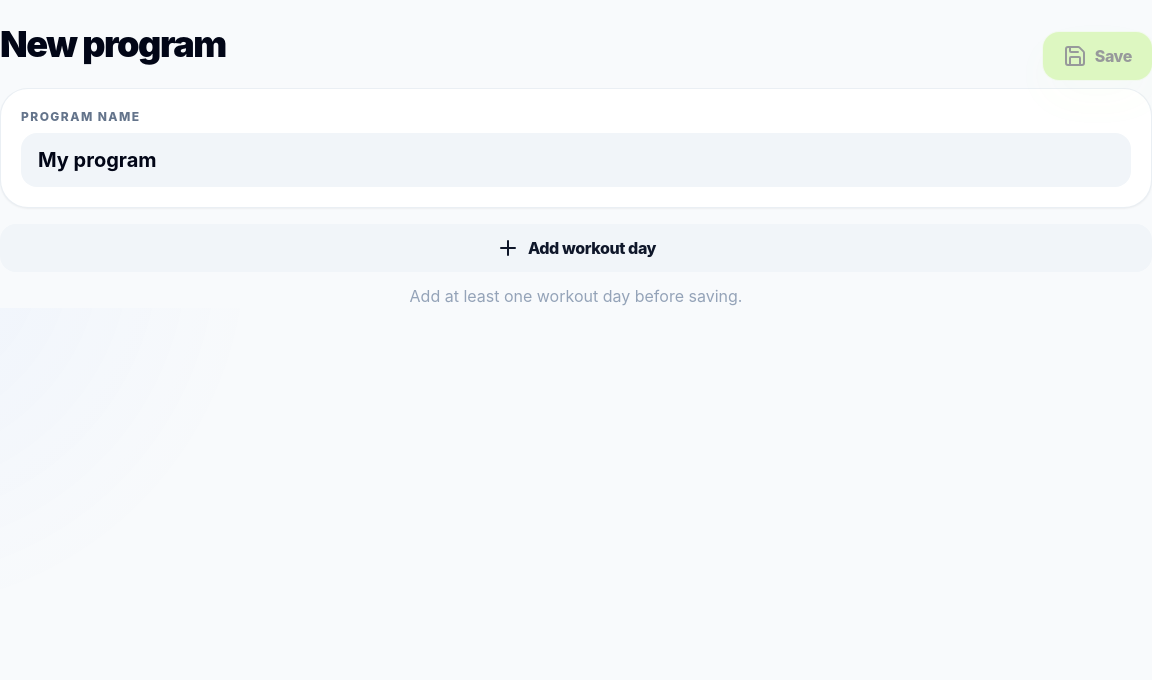
Scenario: program weekday selection › shows duration targets when a timed hold is added
Click the button "Add workout day" at (576, 248), box [0,224,1151,272]
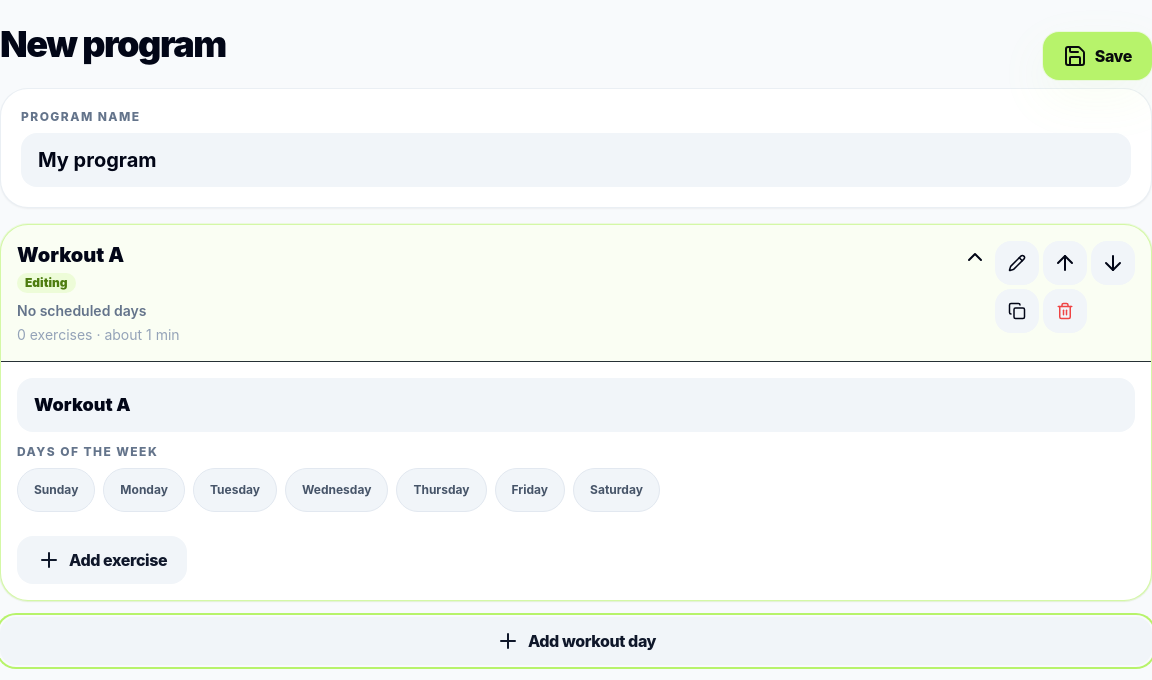
Click the button "Add exercise" at (102, 560), box [17,536,187,584]
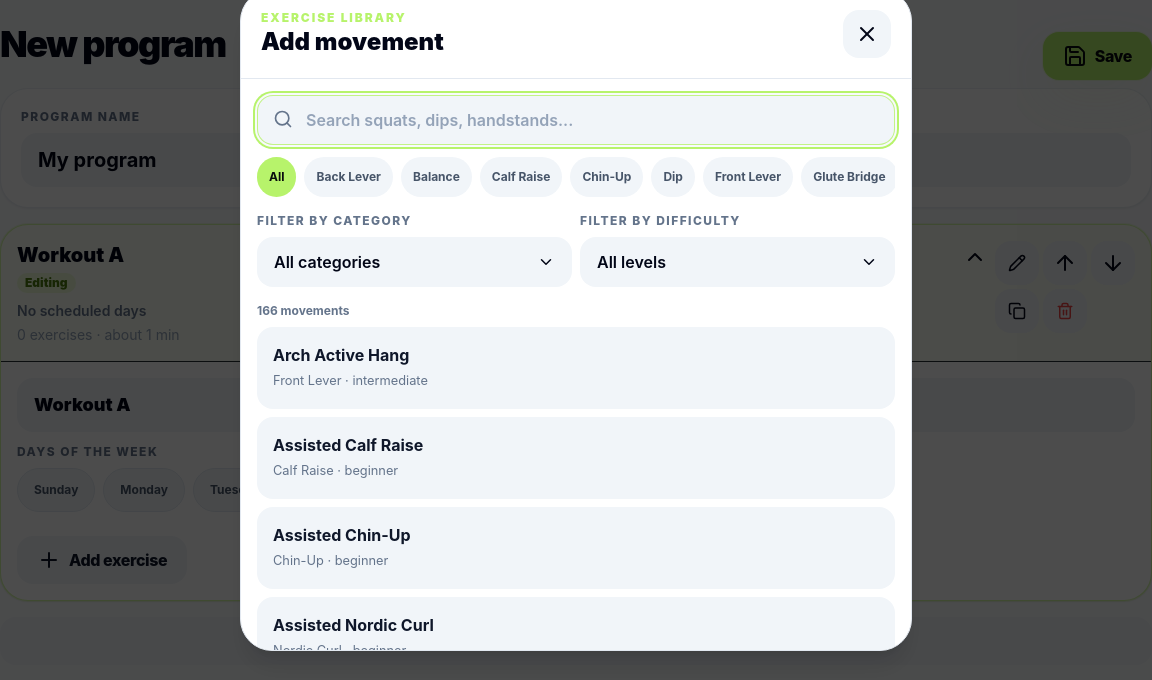
Type "Tuck L-Sit" into the field with placeholder "Search squats, dips, handstands..." at (576, 120), box [257,95,895,145]
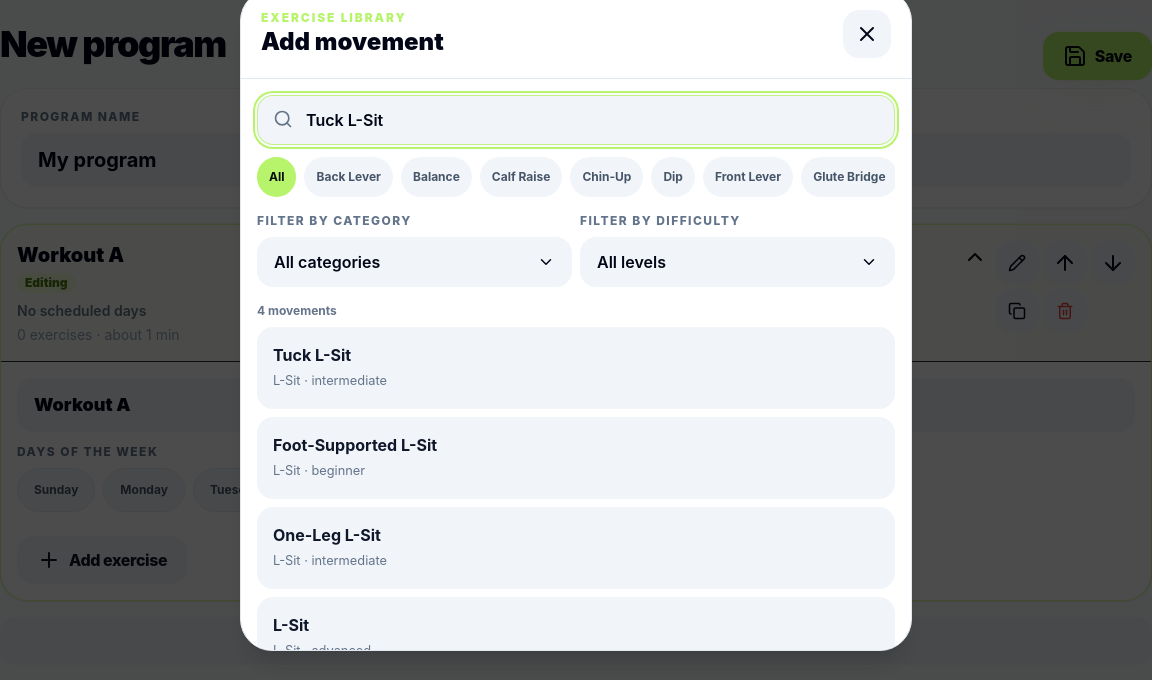
Click the button "Tuck L-Sit L-Sit · intermediate" at (312, 355), box [257,327,895,409]
(page scrolled)
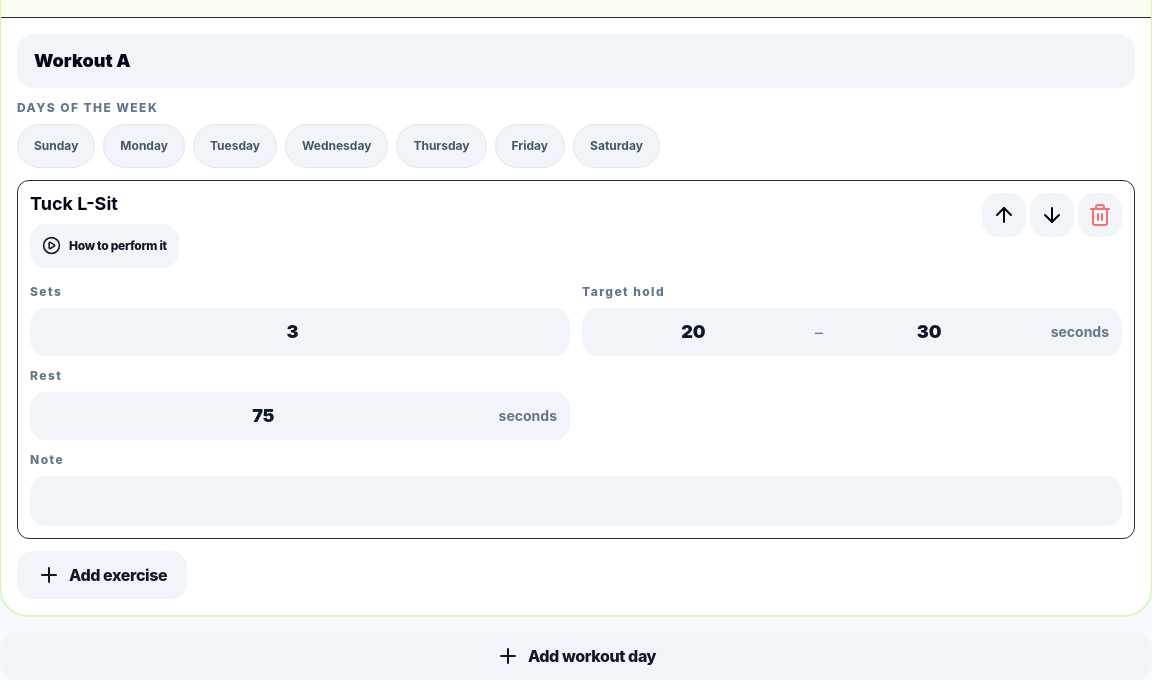
expect the number field named "Target hold Minimum" is shown: met, box [595,310,807,354]
expect the number field named "Target hold Maximum" is shown: met, box [831,310,1043,354]
expect the 1st text "seconds" is shown: met, box [1051,322,1109,342]
